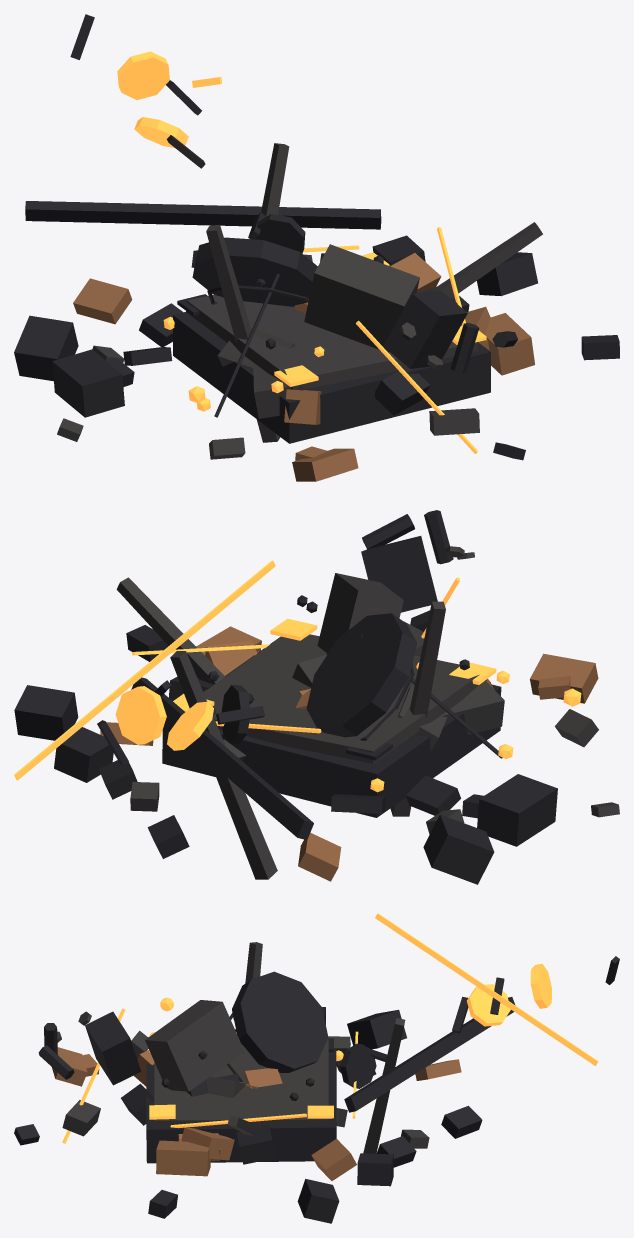
The model's file is Wreck_RailspikeTower.fbx.
3 views of the same model, one above another, from view 1: azimuth 30°, elevation 25°; view 2: azimuth 150°, elevation 25°; view 3: azimuth 270°, elevation 25° (orthographic). The views are drawn at different scales.
Parts seen in each view (by area): view 1: Wreck_RailspikeTower; view 2: Wreck_RailspikeTower; view 3: Wreck_RailspikeTower.
Boxes of the visible parts, x1,y1,x2,y2 form: Wreck_RailspikeTower: (14, 14, 619, 481); Wreck_RailspikeTower: (14, 510, 619, 884); Wreck_RailspikeTower: (14, 913, 619, 1223).
Bounding box in the file's own units: 1.85 × 1.05 × 2.3.
